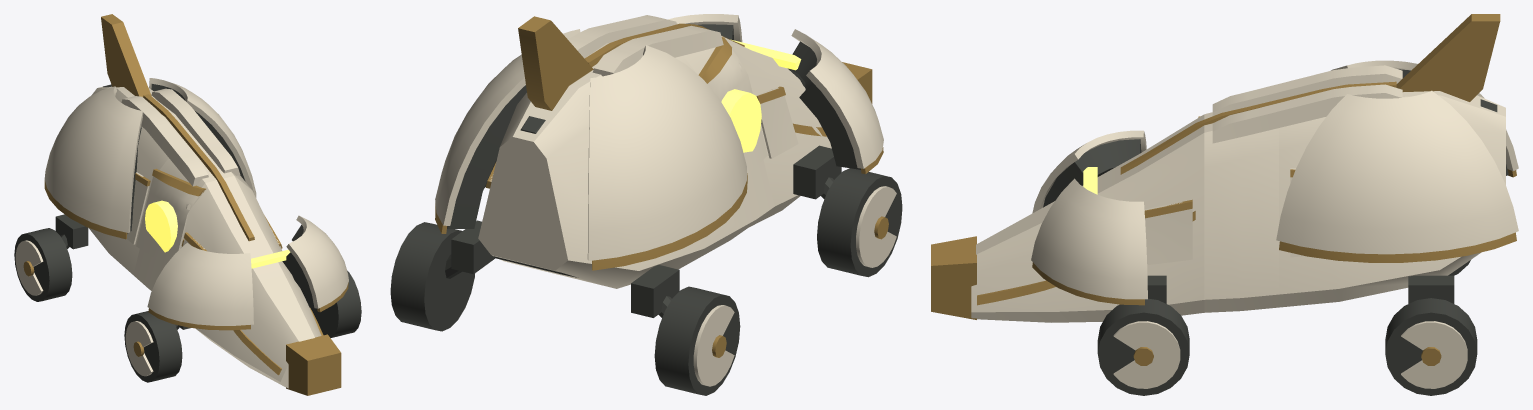
The model's file is banki_charger.glb.
3 renders of one model, left to right at view 1: azimuth 30°, elevation 25°; view 2: azimuth 150°, elevation 25°; view 3: azimuth 270°, elevation 25°, orthographic. The views are drawn at different scales.
Parts seen in each view (by area): view 1: body, body_brass, ram, wheel_rr, fin, wheel_fr, core_cover, wheel_fl, body_dark, core, wheel_rr_ivory, wheel_fr_ivory (+3 smaller); view 2: body, wheel_rl, body_dark, wheel_rr, wheel_fr, fin, body_brass, wheel_rr_ivory, wheel_fr_ivory, susp_rr, susp_fr, core (+5 smaller); view 3: body, body_brass, fin, wheel_rl, wheel_fl, ram, wheel_fl_ivory, wheel_rl_ivory, body_dark, susp_rl, susp_fl.
Boxes of the visible parts, bbox=[...] form: body: bbox=[44, 78, 348, 388]; body_brass: bbox=[44, 94, 348, 375]; ram: bbox=[286, 334, 341, 395]; wheel_rr: bbox=[14, 228, 72, 301]; fin: bbox=[101, 14, 151, 97]; wheel_fr: bbox=[124, 311, 182, 382]; core_cover: bbox=[136, 176, 204, 264]; wheel_fl: bbox=[310, 270, 361, 337]; body_dark: bbox=[103, 84, 316, 308]; core: bbox=[145, 200, 177, 252]; wheel_rr_ivory: bbox=[15, 240, 43, 295]; wheel_fr_ivory: bbox=[125, 321, 153, 376]; body: bbox=[435, 14, 883, 288]; wheel_rl: bbox=[390, 222, 474, 331]; body_dark: bbox=[447, 24, 860, 277]; wheel_rr: bbox=[654, 286, 740, 395]; wheel_fr: bbox=[817, 168, 902, 277]; fin: bbox=[518, 16, 593, 110]; body_brass: bbox=[435, 23, 883, 270]; wheel_rr_ivory: bbox=[693, 305, 734, 386]; wheel_fr_ivory: bbox=[856, 186, 896, 267]; susp_rr: bbox=[631, 265, 679, 317]; susp_fr: bbox=[793, 145, 841, 199]; core: bbox=[721, 89, 761, 152]; body: bbox=[971, 60, 1518, 322]; body_brass: bbox=[977, 81, 1516, 305]; fin: bbox=[1396, 14, 1500, 101]; wheel_rl: bbox=[1385, 298, 1477, 395]; wheel_fl: bbox=[1097, 298, 1189, 395]; ram: bbox=[931, 236, 976, 319]; wheel_fl_ivory: bbox=[1113, 321, 1180, 388]; wheel_rl_ivory: bbox=[1401, 321, 1467, 388]; body_dark: bbox=[1043, 69, 1508, 207]; susp_rl: bbox=[1408, 275, 1454, 303]; susp_fl: bbox=[1147, 275, 1166, 303].
Bounding box in the file's own units: 1.11 × 1.2 × 2.04.
